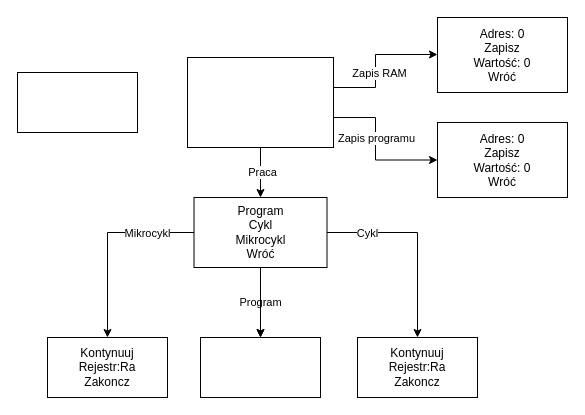
The diagram is 585 pixels wide and 415 high, and some of its shapes have lost their labels. The shapes that lost their labels are listed below. From the top down, each one's centre as x and y in pixels, then its label:
At (x=77, y=102): "Podaj wartość".
At (x=260, y=102): "Zapis RAM Zapis programu Praca Zegar Reset".
At (x=260, y=367): "Rejestr:Ra Zakoncz".
